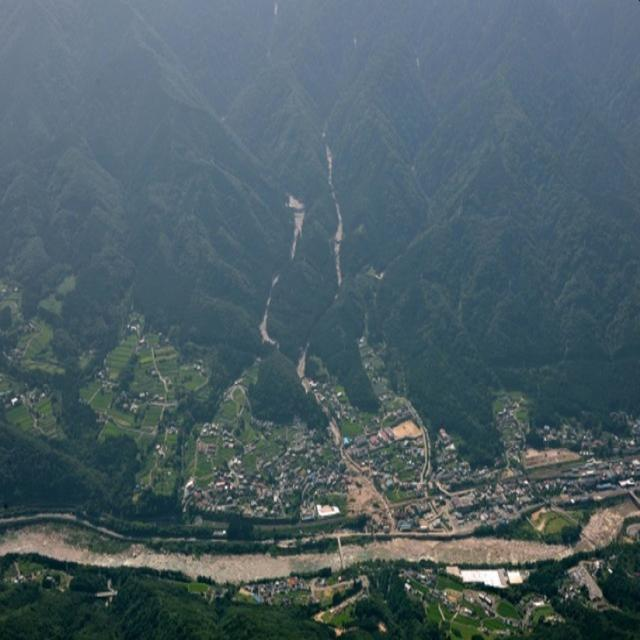Debris-flow: (370, 397, 430, 484), (326, 140, 344, 289), (496, 397, 526, 462), (260, 273, 280, 344), (286, 195, 306, 259), (296, 343, 316, 390), (360, 330, 379, 374), (324, 408, 339, 435), (440, 431, 454, 449)
